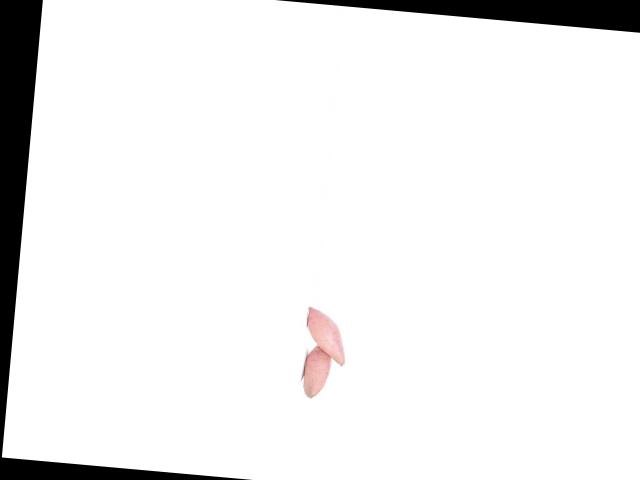sweet_potato: (301, 339, 336, 401)
